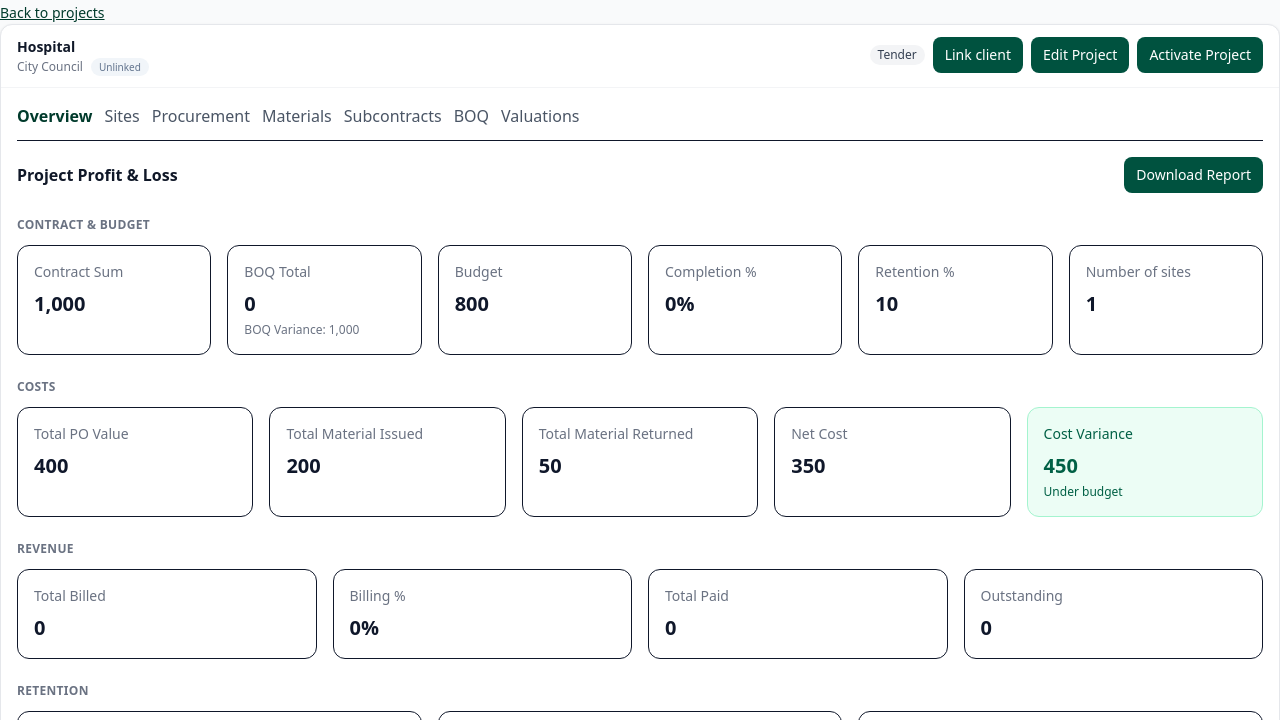
Test: project detail procurement sites (P2-4) › lists FK-linked procurement sites with branch, location and status
Expected: the heading "Hospital" is shown, [17,37,75,56]
Click the tab "Sites".
click(122, 116)  # box [104,104,140,128]
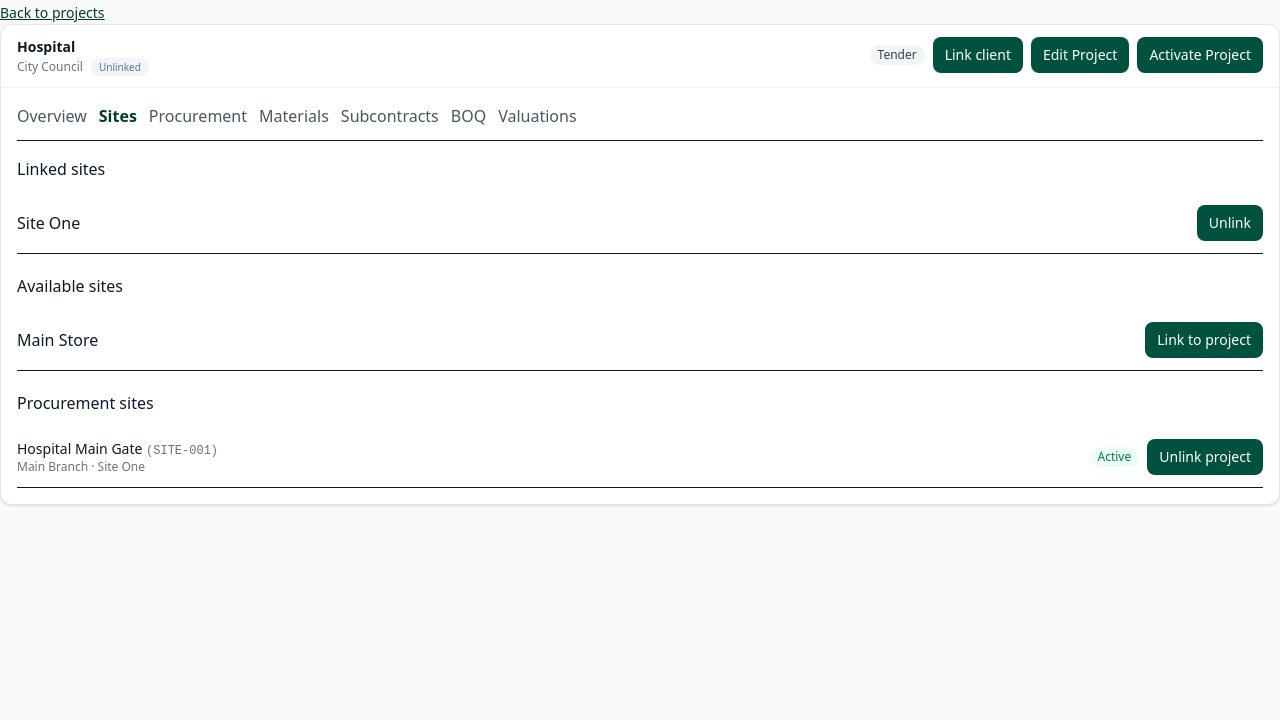
Expected: the text "Hospital Main Gate" is shown, [17,439,142,458]
Expected: the heading "Procurement sites" is shown, [17,392,154,414]
Expected: the text "(SITE-001)" is shown, [146,444,218,458]
